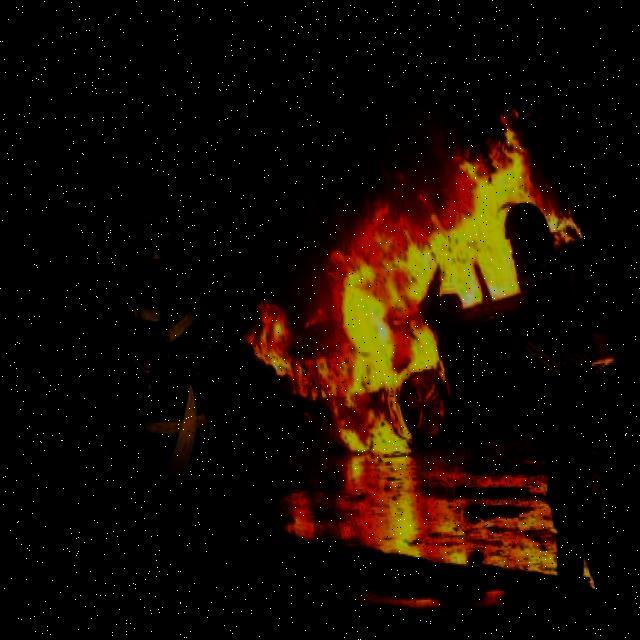Fire: (212, 121, 580, 458)
